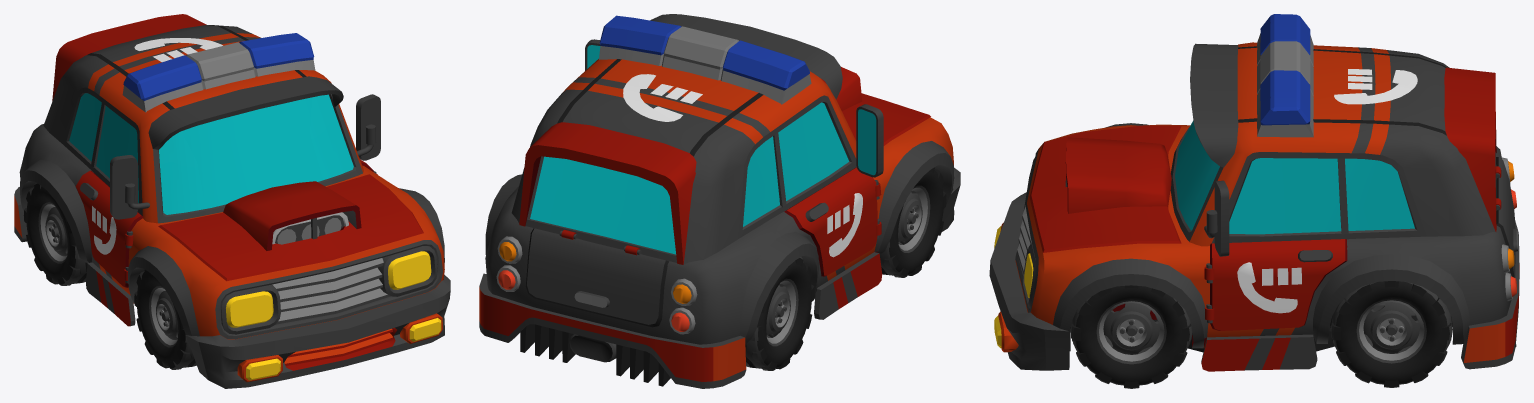
The model's file is VEH7-C.fbx.
3 views of the same model, side by side, from view 1: azimuth 30°, elevation 25°; view 2: azimuth 150°, elevation 25°; view 3: azimuth 270°, elevation 25° (orthographic). The views are drawn at different scales.
Visible parts, largest first — view 1: VEH7_C, V7C_Wheel_BR, V7C_Wheel_FR, V7C_BodyParts; view 2: VEH7_C, V7C_Wheel_BR, V7C_Wheel_FR, V7C_BodyParts; view 3: VEH7_C, V7C_Wheel_BL, V7C_Wheel_FL, V7C_BodyParts.
Boxes of the visible parts, x1,y1,x2,y2 form: VEH7_C: [14, 14, 450, 388]; V7C_Wheel_BR: [23, 182, 87, 285]; V7C_Wheel_FR: [134, 270, 196, 369]; V7C_BodyParts: [134, 38, 222, 62]; VEH7_C: [479, 14, 960, 388]; V7C_Wheel_BR: [745, 257, 814, 370]; V7C_Wheel_FR: [880, 167, 946, 277]; V7C_BodyParts: [623, 74, 702, 121]; VEH7_C: [989, 14, 1519, 371]; V7C_Wheel_BL: [1330, 281, 1452, 387]; V7C_Wheel_FL: [1070, 285, 1192, 388]; V7C_BodyParts: [1334, 69, 1417, 104].
Size of the model in its own units: 248 by 204 by 366.
Materials: 1 (1 with a texture image).
